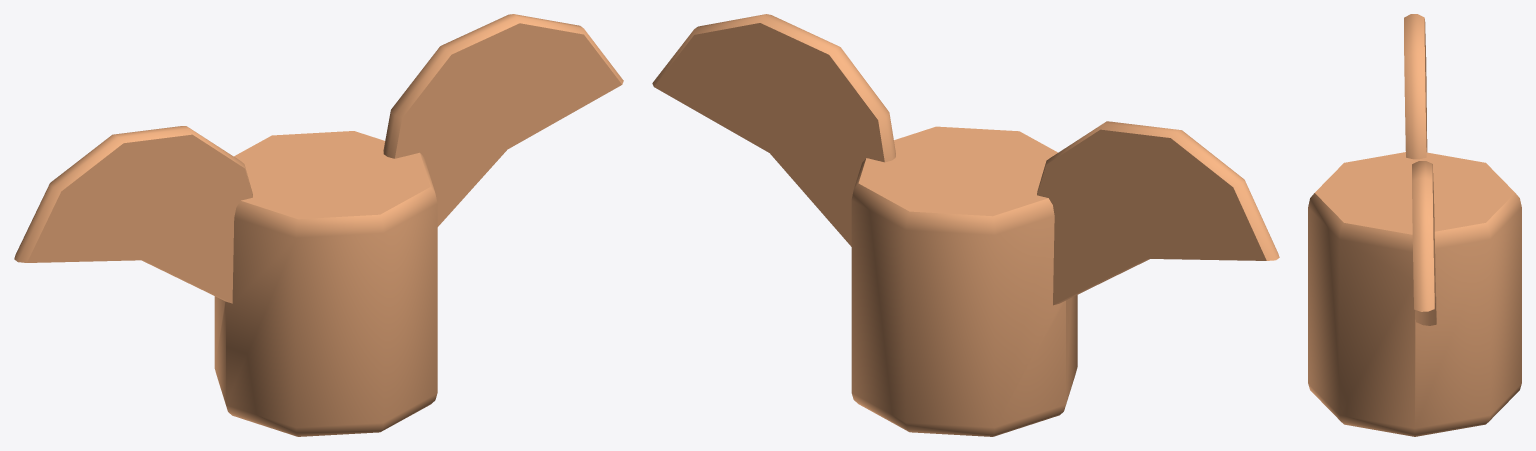
File: Bat.fbx
3 views of the same model, side by side, from view 1: azimuth 30°, elevation 25°; view 2: azimuth 150°, elevation 25°; view 3: azimuth 270°, elevation 25° (orthographic). The views are drawn at different scales.
Visible parts, largest first — view 1: Cylinder008; view 2: Cylinder008; view 3: Cylinder008.
Part boxes in pixels (<box>): Cylinder008: <box>14,14,623,436</box>; Cylinder008: <box>652,14,1279,436</box>; Cylinder008: <box>1308,14,1521,436</box>.
Size of the model in its own units: 42.72 by 21.89 by 13.99.
